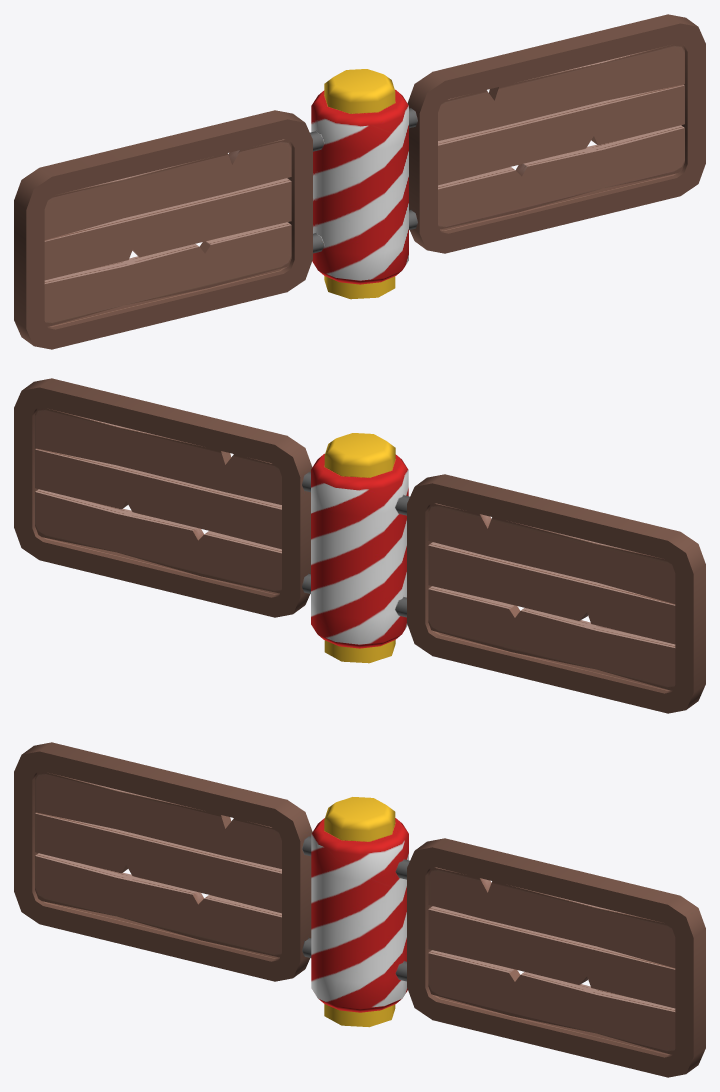
File: OBS0110237.fbx
The picture shows the model from 3 angles, top to bottom: view 1: azimuth 30°, elevation 25°; view 2: azimuth 150°, elevation 25°; view 3: azimuth 330°, elevation 25°; orthographic projection.
Parts seen in each view (by area): view 1: smOBS0110237; view 2: smOBS0110237; view 3: smOBS0110237.
Part boxes in pixels (box(x1,y1,x2,y2)): smOBS0110237: box(14, 14, 705, 349); smOBS0110237: box(14, 378, 705, 713); smOBS0110237: box(14, 742, 705, 1077).
Bounding box in the file's own units: 553 × 159 × 68.95.
Materials: 1 (1 with a texture image).
